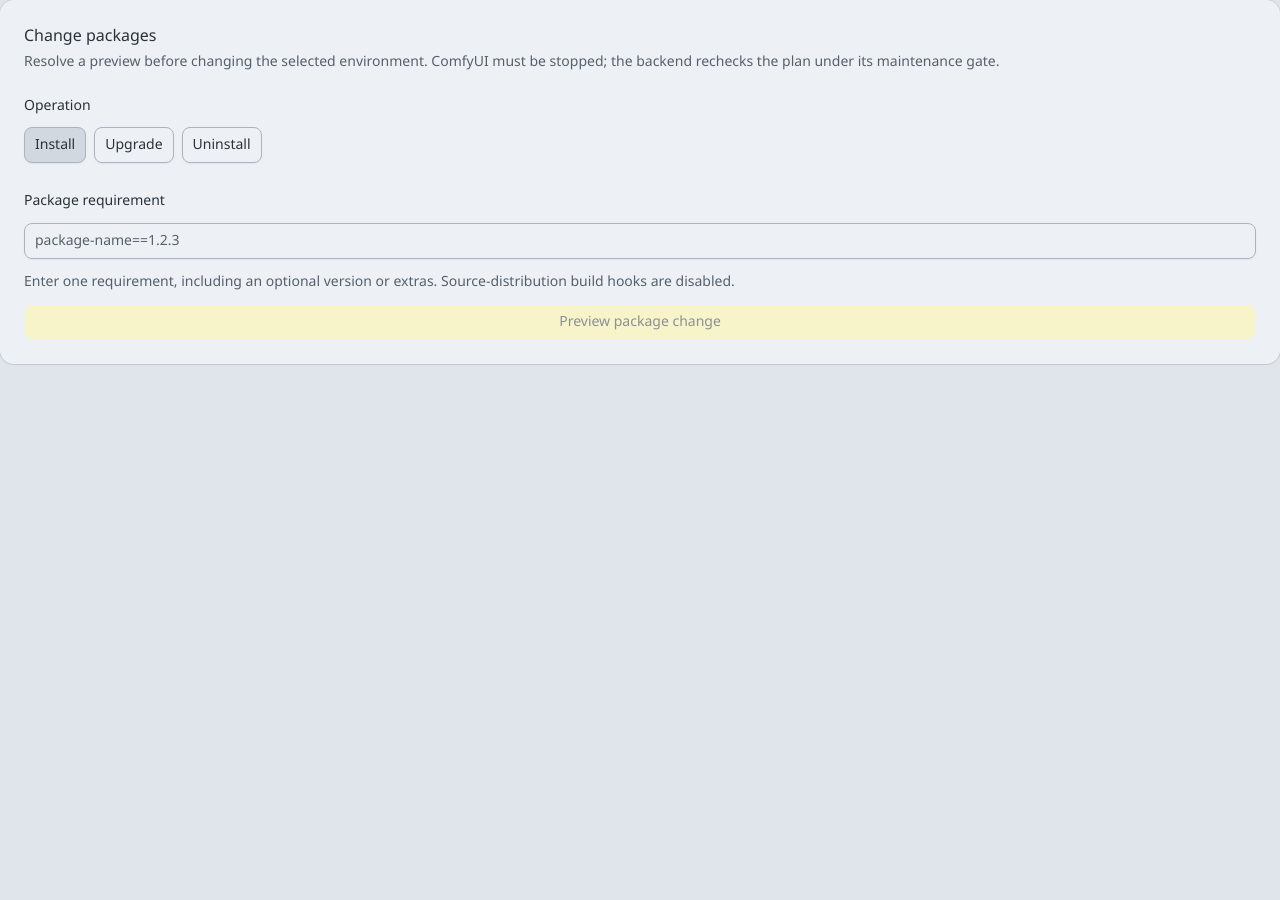
it: requires exact protected-change approval and sends only that plan’s changes
This screenshot has width=1280, height=900.
In the field labelled "Package requirement": [640, 240] box [24, 222, 1256, 258], type "torch==2.14.2"
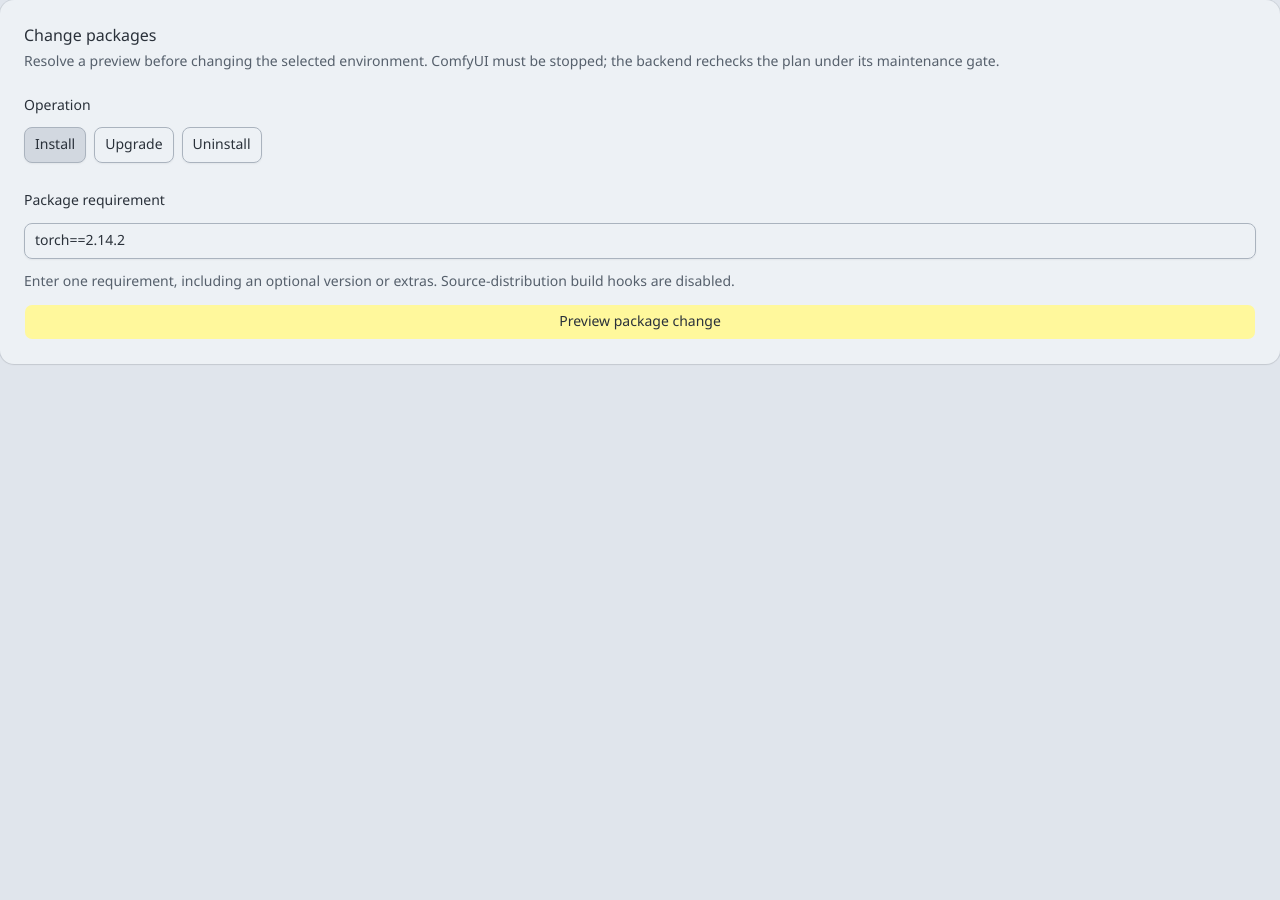
Click the button "Preview package change": [640, 322] box [24, 304, 1256, 340]
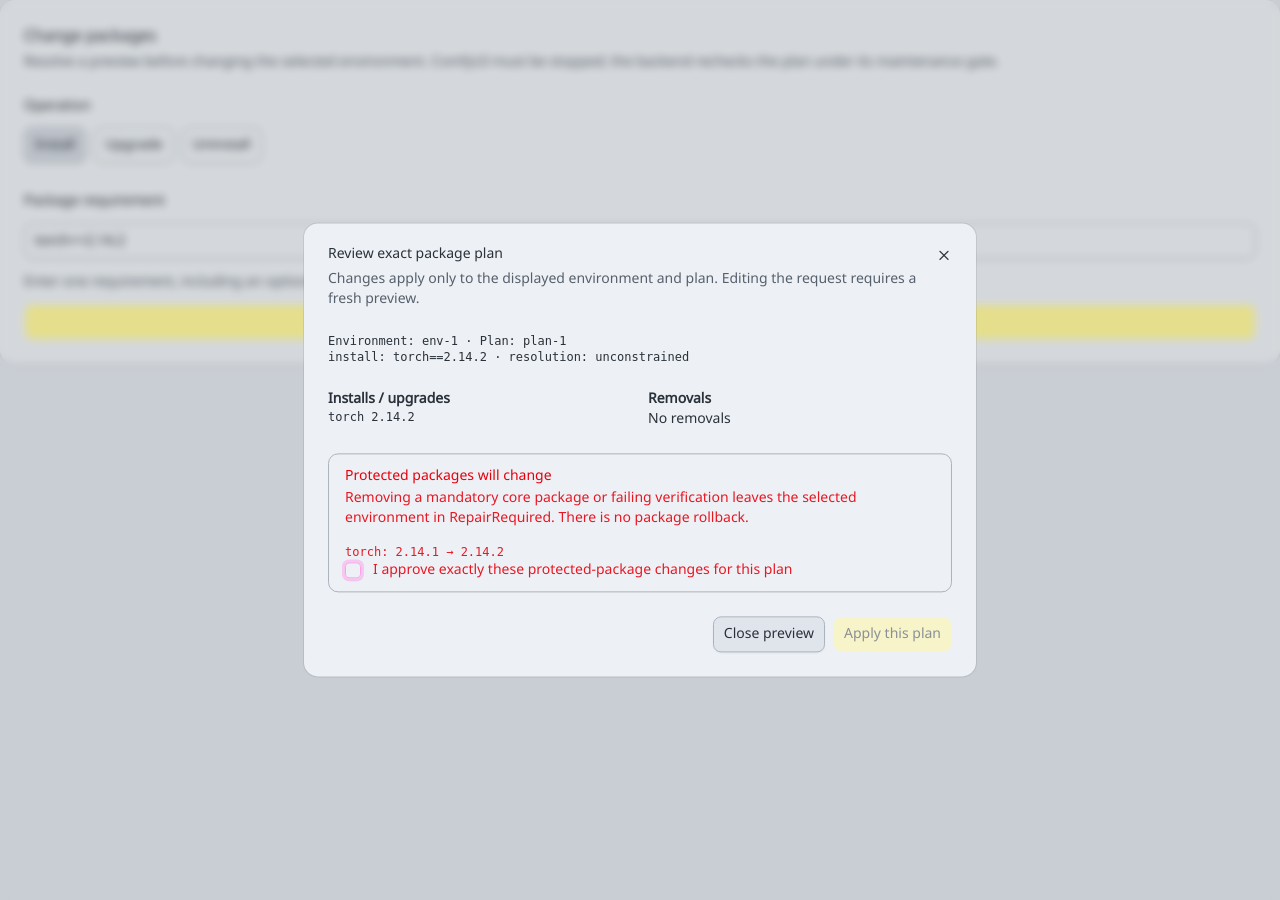
Expected: the dialog is shown, [304, 223, 976, 677]
Expected: the button "Apply this plan" is disabled, [833, 617, 952, 653]
Expected: the list item "torch: 2.14.1 → 2.14.2" is shown, [345, 545, 504, 559]
Click the checkbox: [353, 570] box [345, 562, 361, 578]
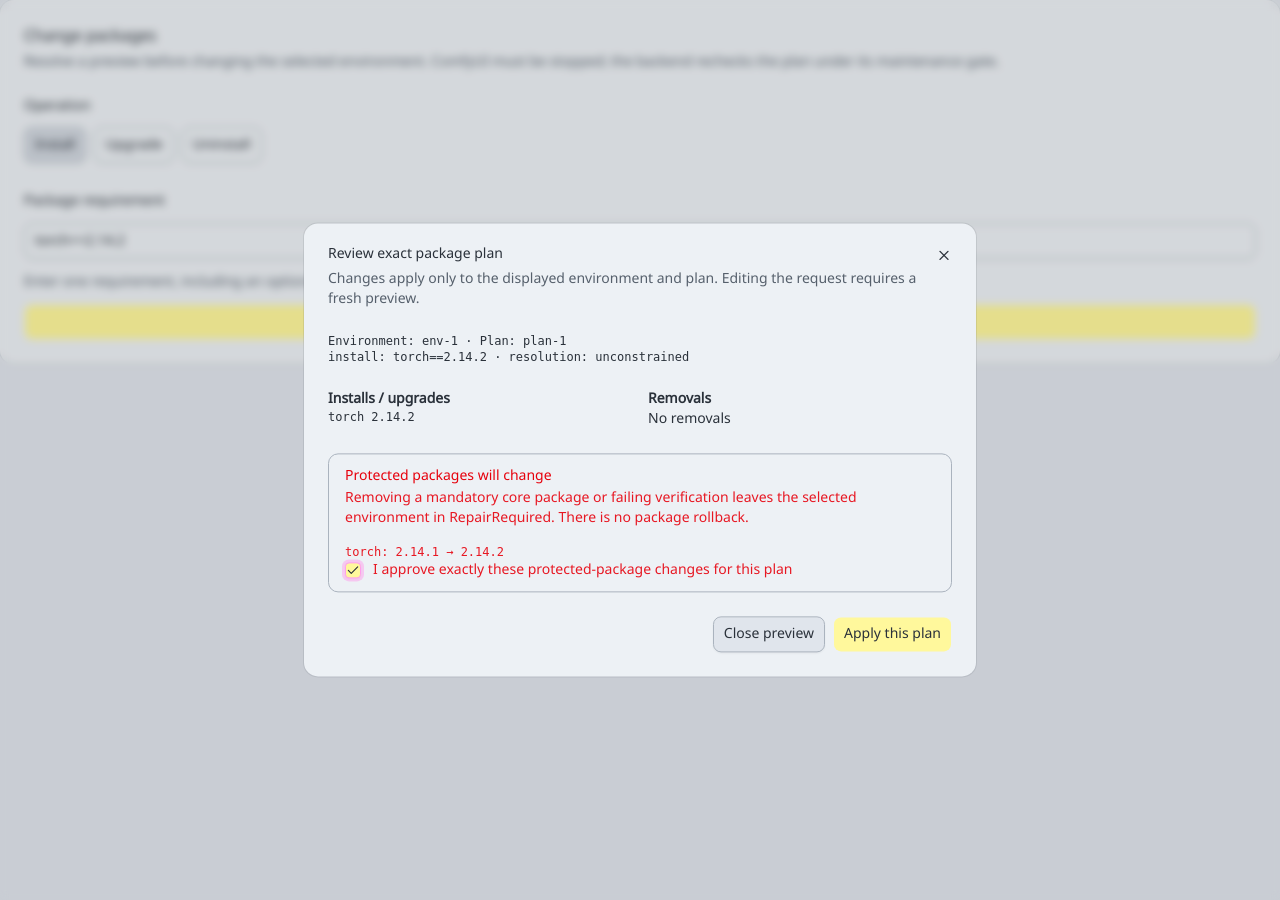
Click the button "Apply this plan": [892, 635] box [833, 617, 952, 653]
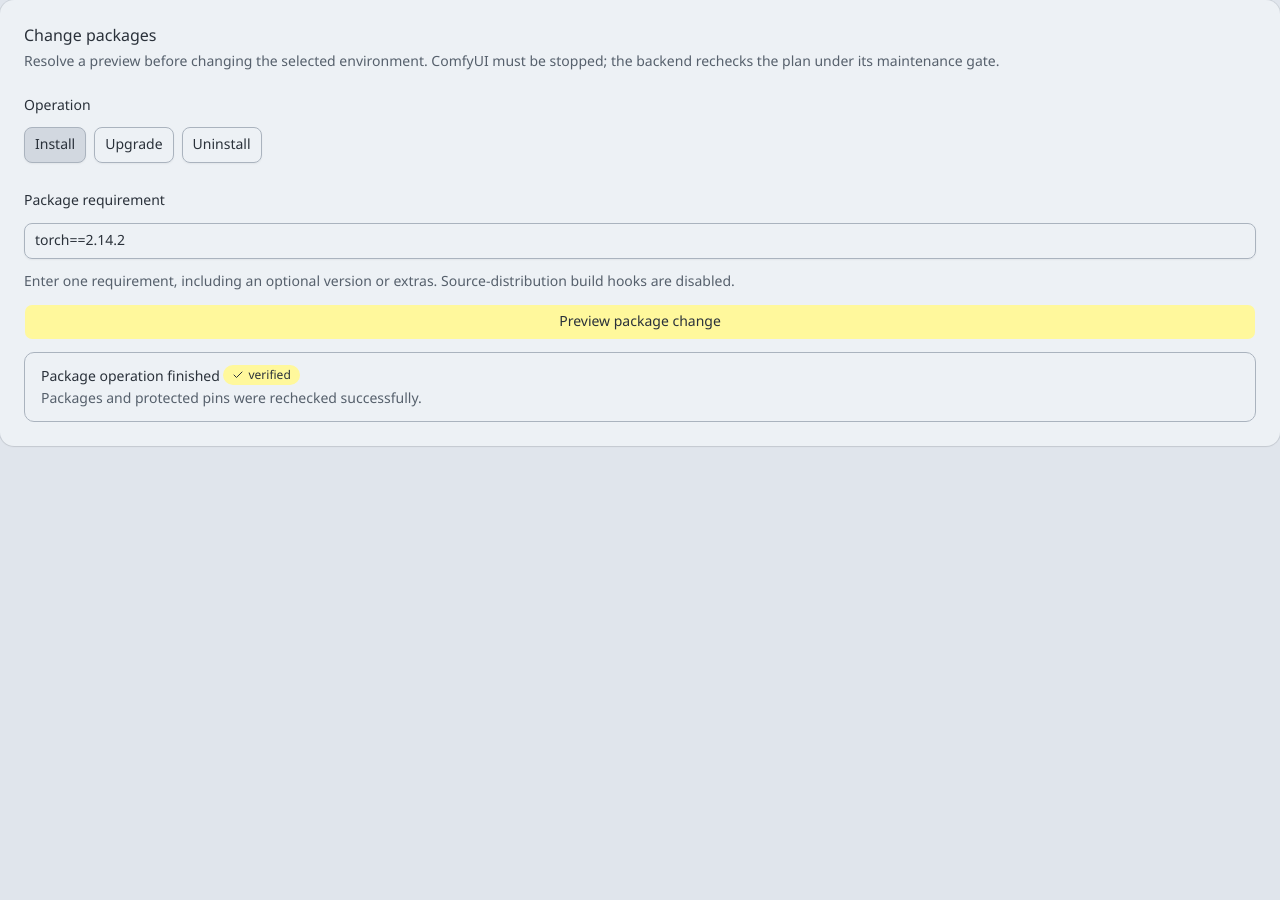
Expected: the text "Packages and protected pins were rechecked successfully." is shown, [41, 388, 422, 408]
